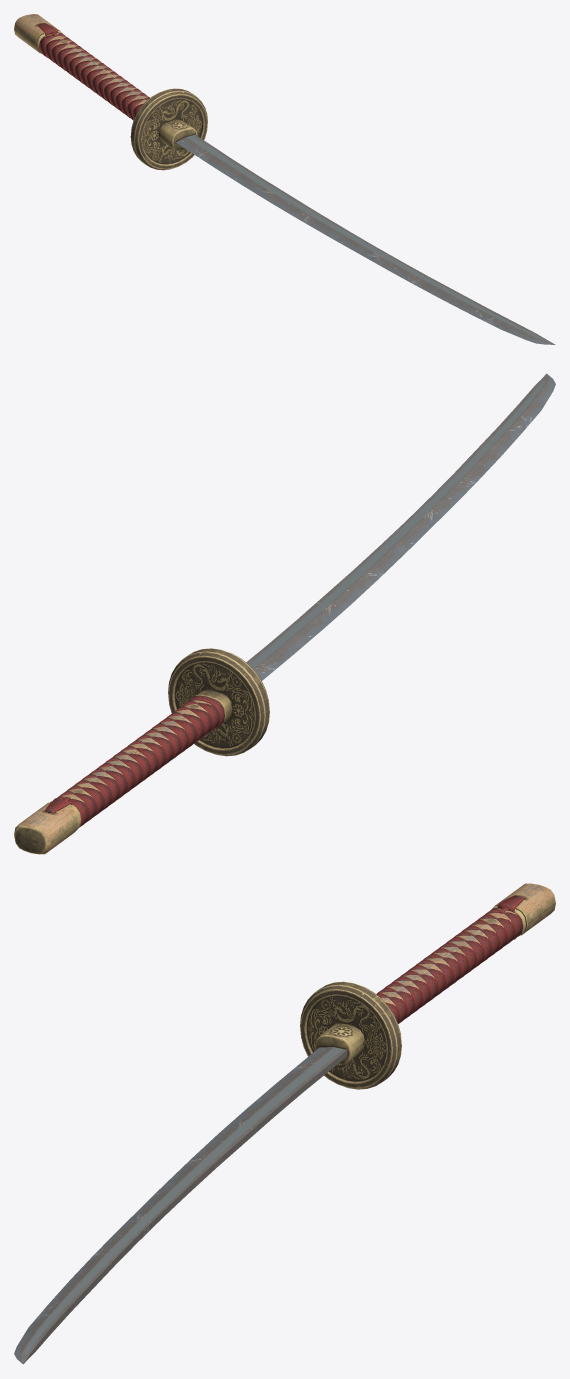
Rendered from dual-katana.glb.
The picture shows the model from 3 angles, top to bottom: view 1: azimuth 30°, elevation 25°; view 2: azimuth 150°, elevation 25°; view 3: azimuth 330°, elevation 25°; orthographic projection. The views are drawn at different scales.
Parts seen in each view (by area): view 1: Sword_Katana_Sword_0; view 2: Sword_Katana_Sword_0; view 3: Sword_Katana_Sword_0.
Part boxes in pixels (x1=…): Sword_Katana_Sword_0: x1=14, y1=14, x2=555, y2=344; Sword_Katana_Sword_0: x1=14, y1=373, x2=555, y2=854; Sword_Katana_Sword_0: x1=14, y1=883, x2=555, y2=1364.
Bounding box in the file's own units: 0.148 × 0.1031 × 1.11.
1 material, 1 textured.
